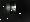person: (8, 2, 16, 15)
